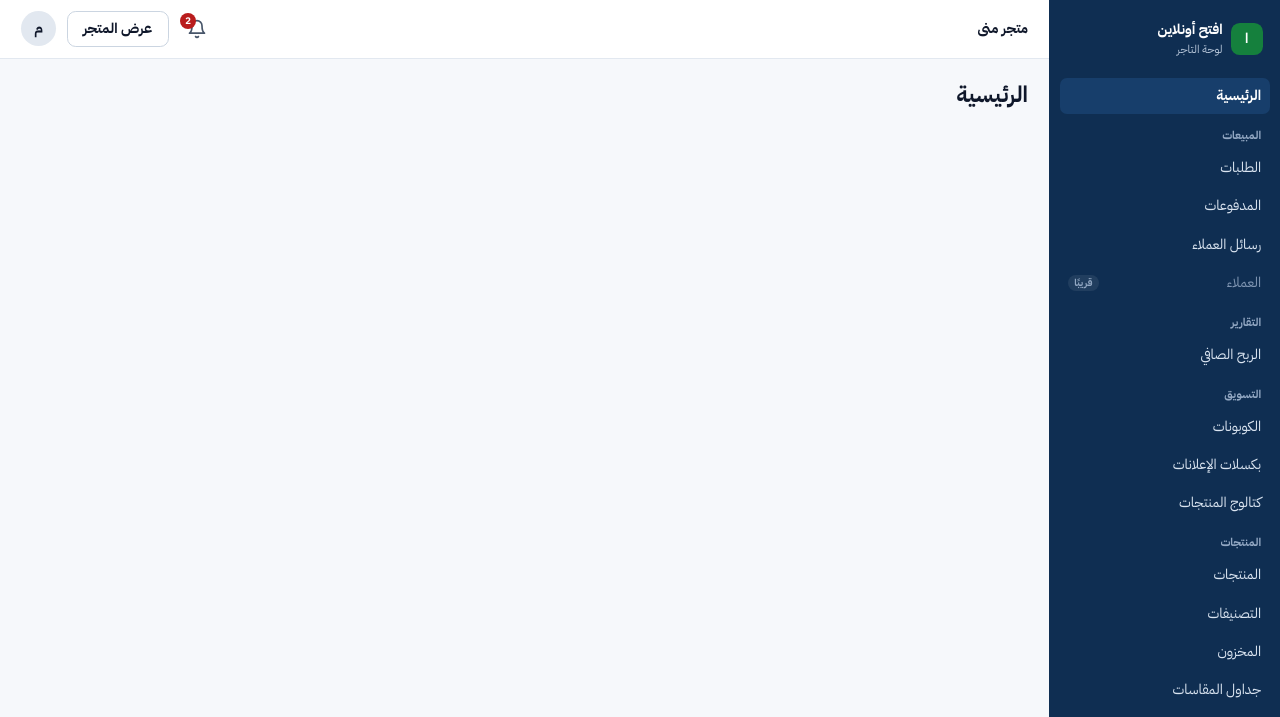
Test: NotificationBell › shows a plan's monthly orders limit, near and reached
Click the heading named "الإشعارات: 2 غير مقروءة". click: click(194, 26)
box: left=180, top=14, right=207, bottom=39
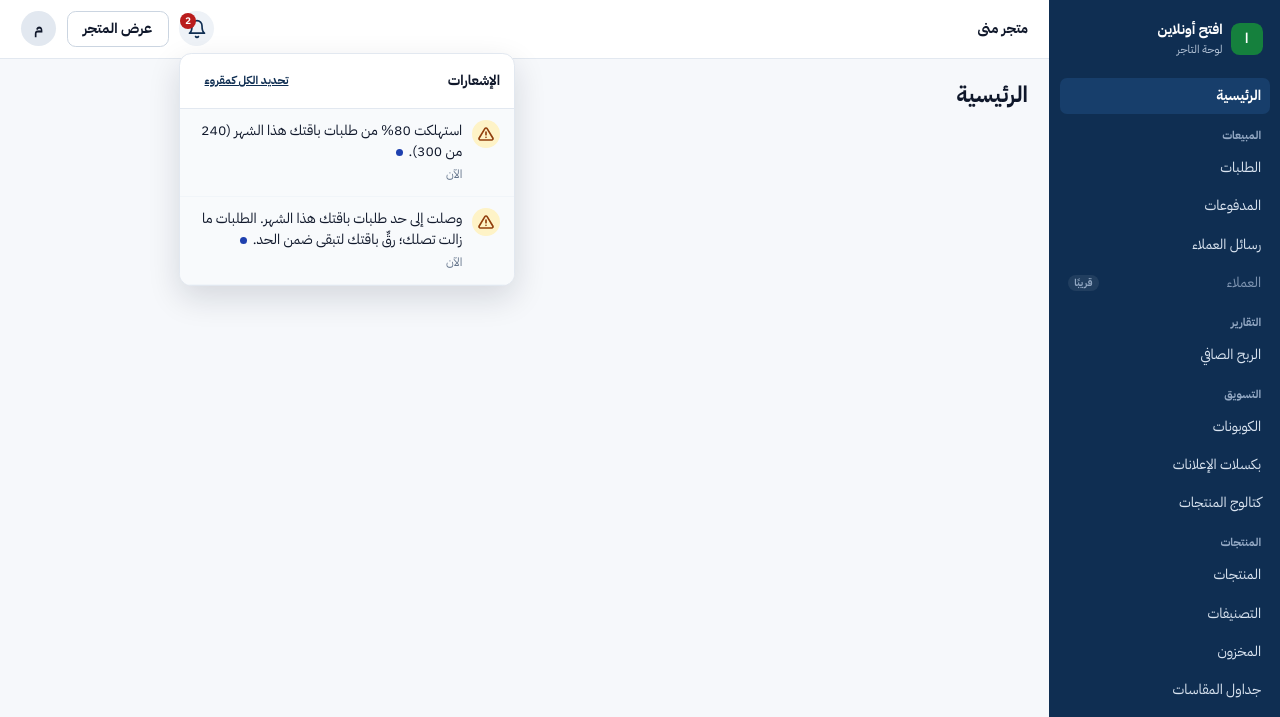
Result: the text "استهلكت 80% من طلبات باقتك هذا الشهر (240 من 300)." is shown at left=194, top=120, right=462, bottom=163
Result: the text "وصلت إلى حد طلبات باقتك هذا الشهر" is shown at left=202, top=208, right=462, bottom=250
